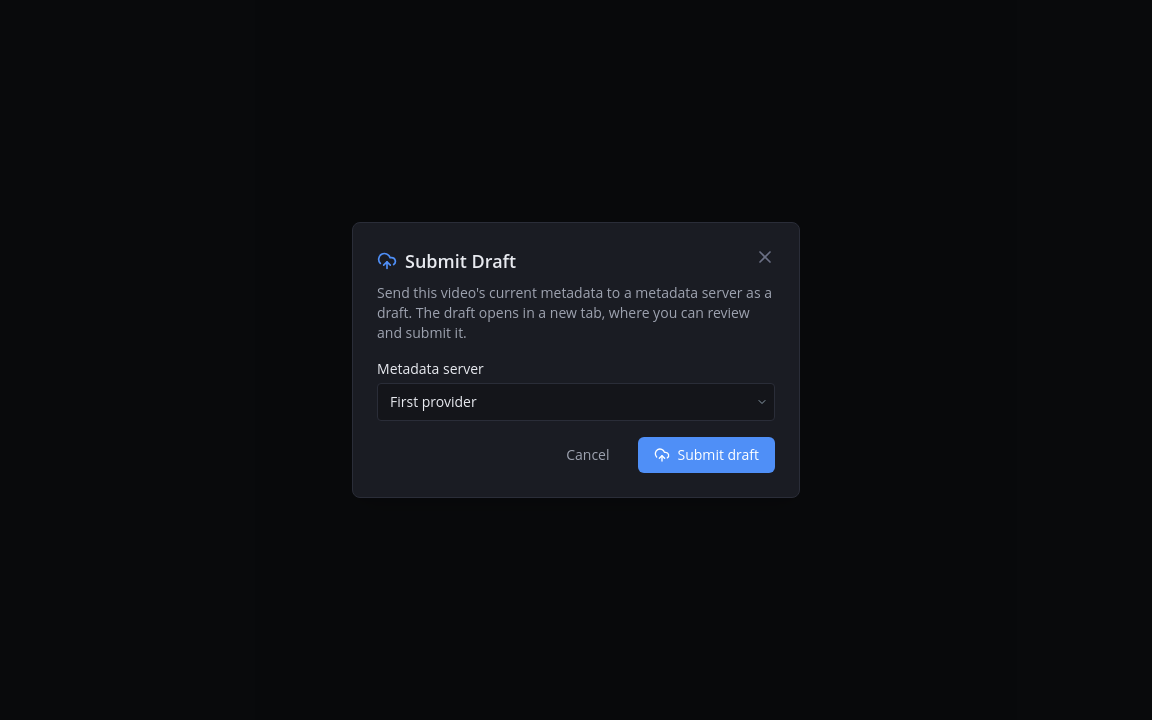
Test: MetadataServerDraftDialog › closes the pre-opened tab and shows the reason when the submission fails
This screenshot has width=1152, height=720.
Click the button "Submit draft" at (706, 455), box x1=638 y1=437 x2=775 y2=473
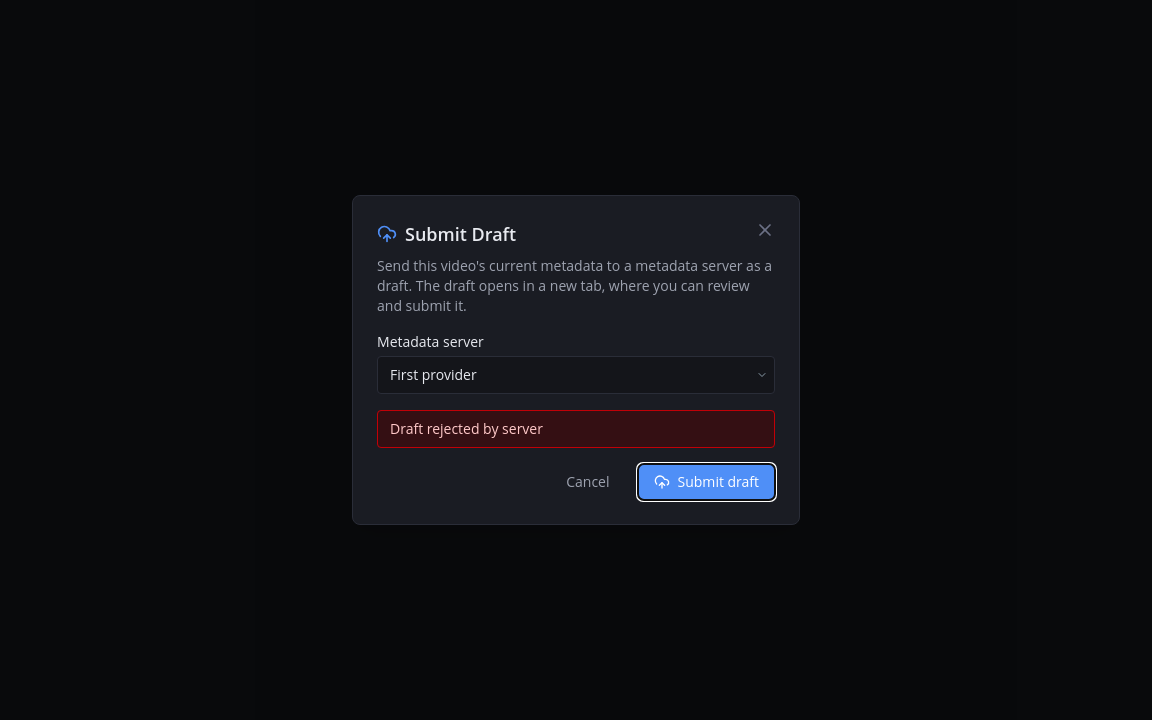
Expected: the button "Submit draft" is enabled, x1=638 y1=464 x2=775 y2=500
Expected: the message reads "Draft rejected by server", x1=390 y1=419 x2=543 y2=438
